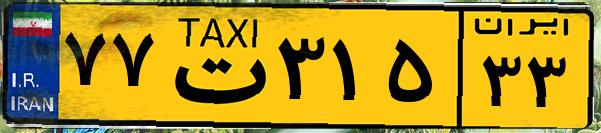1: (330, 28, 385, 110)
3: (270, 28, 330, 110), (475, 38, 525, 113), (525, 38, 570, 115)
5: (385, 28, 445, 110)
7: (57, 26, 110, 100), (110, 28, 158, 98)
ت: (158, 12, 270, 120)
